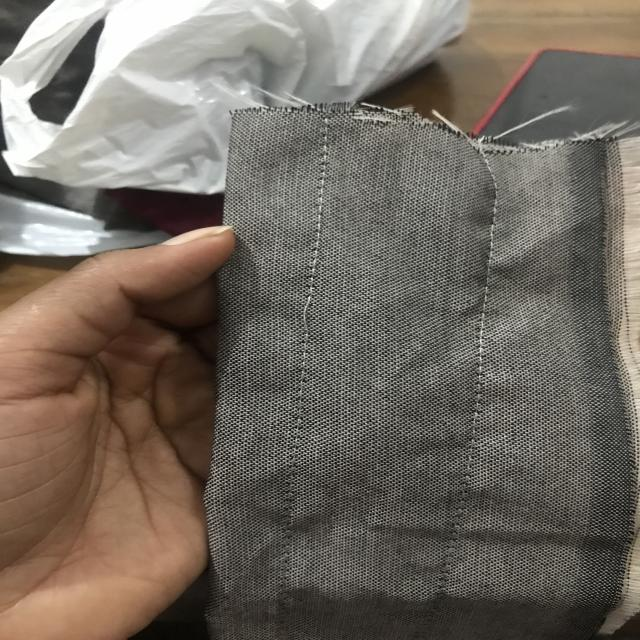skip: (284, 287, 329, 341)
